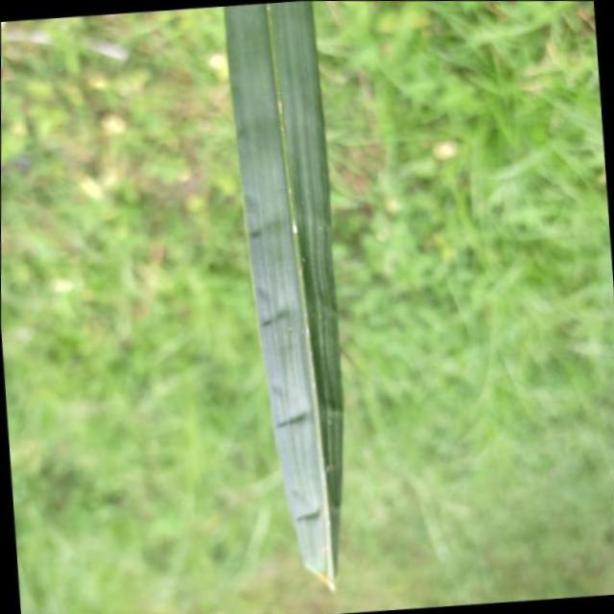Boron: (218, 0, 342, 586)
